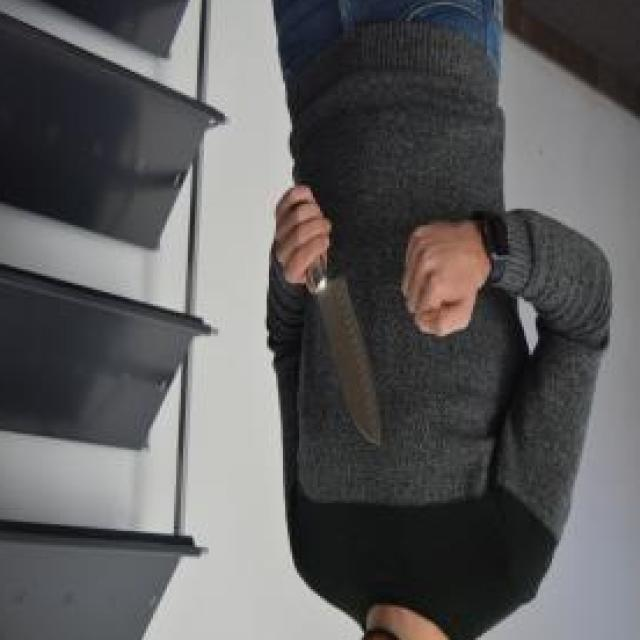knife: (297, 234, 387, 455)
